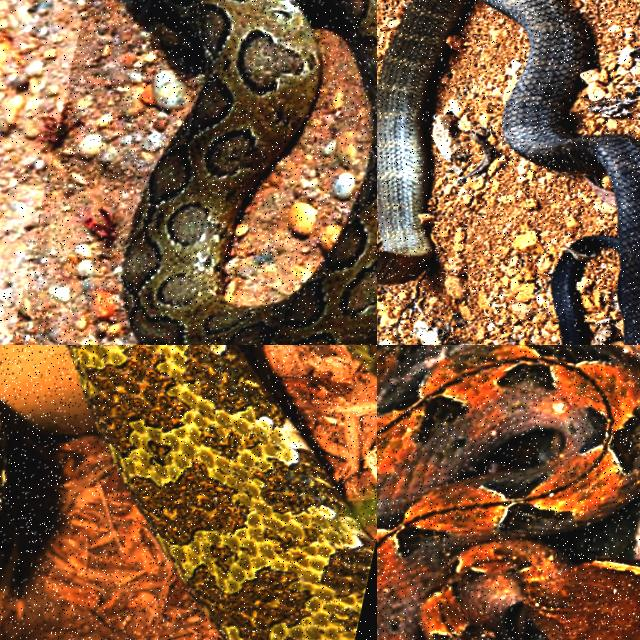Calloselasma rhodostoma: (377, 345, 639, 639)
Daboia siamensis: (122, 0, 376, 344)
Ophiophagus hannah: (482, 0, 639, 344)
Ovophis monticola: (69, 345, 373, 639)
snake: (69, 345, 373, 639), (122, 0, 376, 344), (377, 345, 639, 639), (482, 0, 639, 344)
